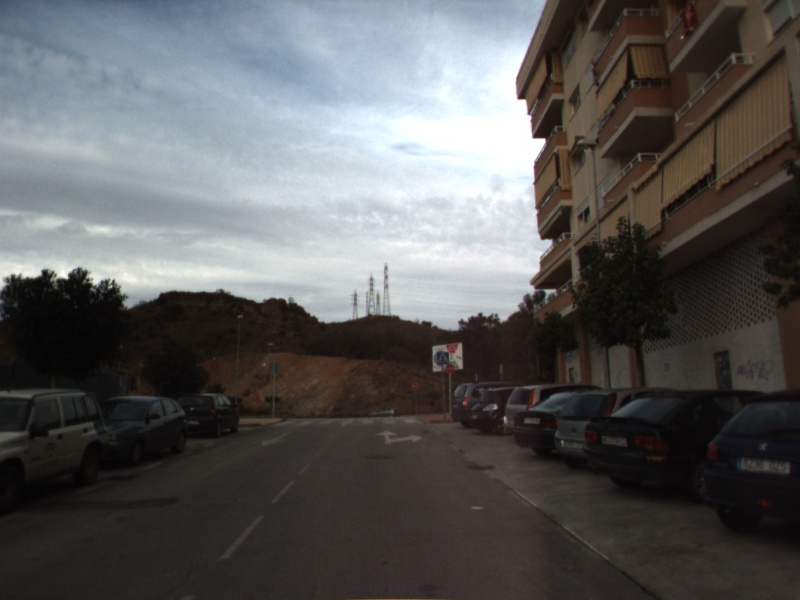STRAIGHT_RIGHT: (374, 428, 425, 447)
